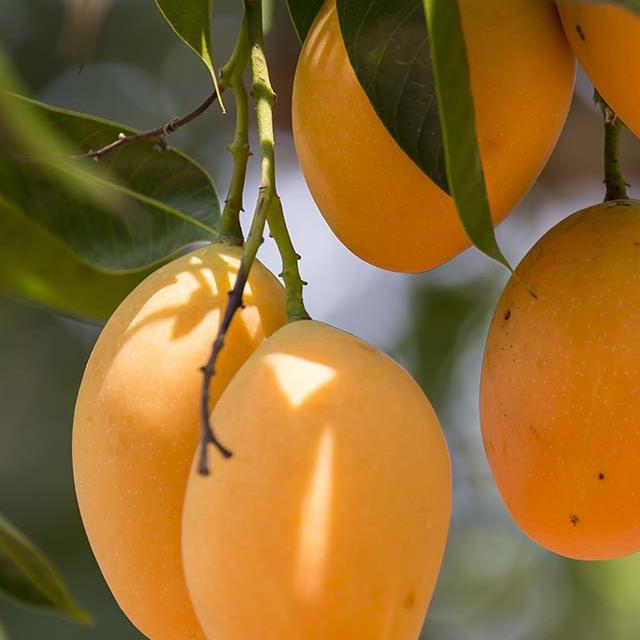mango: (182, 318, 452, 640), (72, 242, 242, 640), (480, 198, 640, 558), (292, 0, 470, 272), (459, 0, 576, 222), (210, 260, 286, 402)
